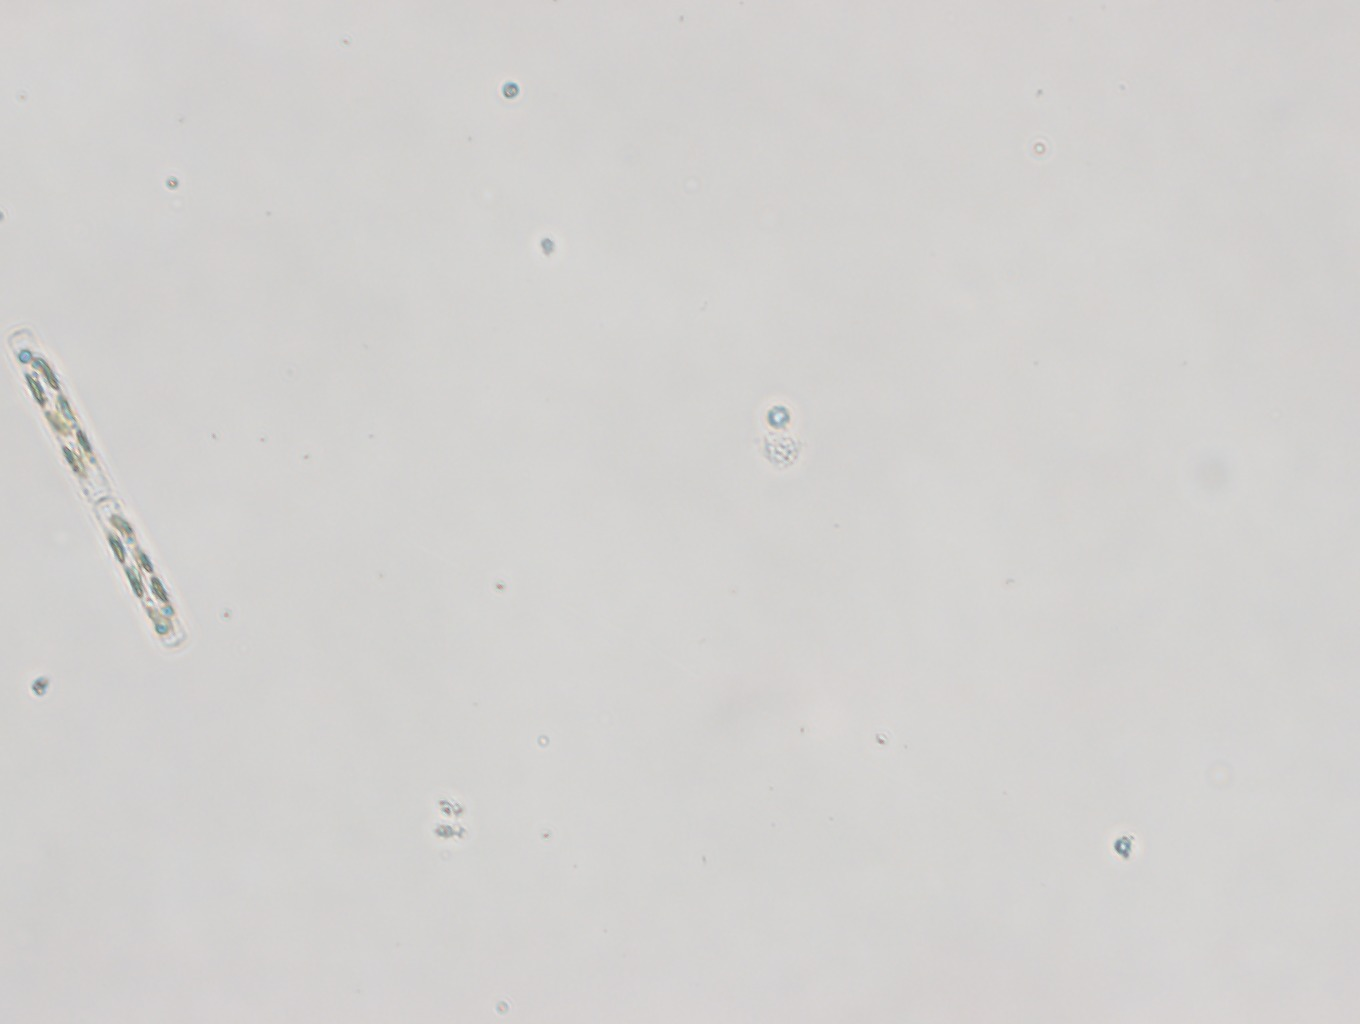guinardia flaccida: (2, 325, 190, 656)
